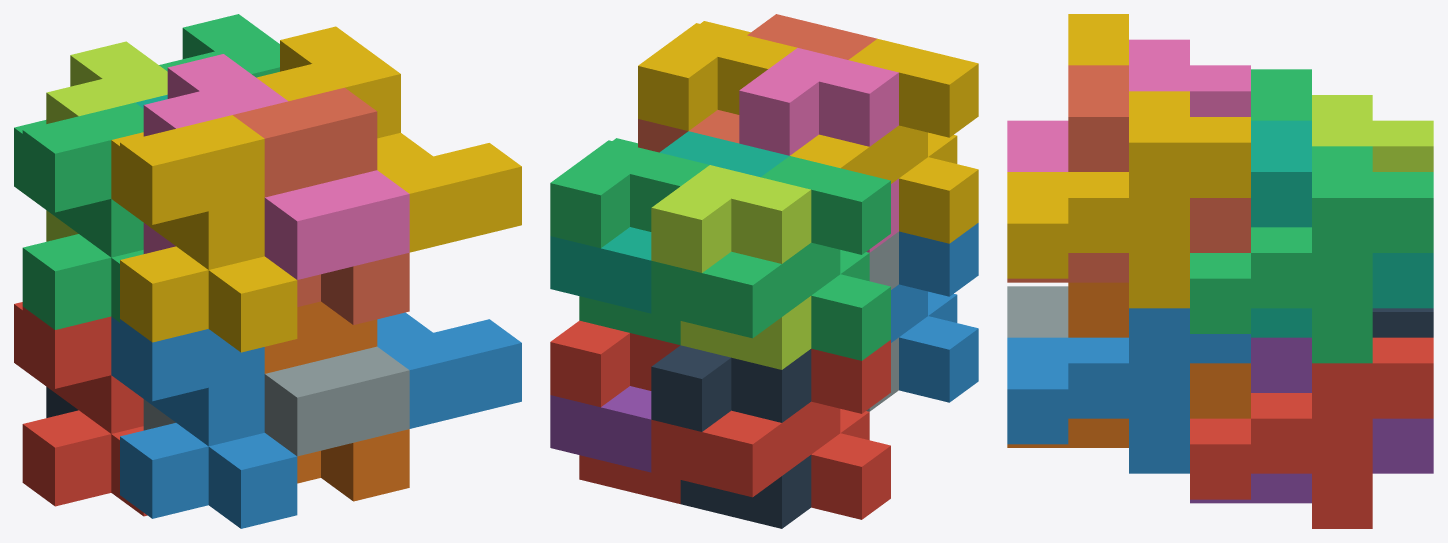
The model's file is tiling.obj.
3 views of the same model, side by side, from view 1: azimuth 30°, elevation 25°; view 2: azimuth 150°, elevation 25°; view 3: azimuth 270°, elevation 25° (orthographic). The views are drawn at different scales.
Visible parts, largest first — view 1: copy_1_domain_4, copy_1_domain_2, copy_1_domain_3, copy_2_domain_8, copy_2_domain_4, copy_1_domain_1, copy_1_domain_8, copy_2_domain_2, copy_2_domain_6, copy_1_domain_6, copy_2_domain_3, copy_2_domain_7; view 2: copy_1_domain_3, copy_1_domain_1, copy_1_domain_4, copy_2_domain_3, copy_2_domain_1, copy_2_domain_4, copy_2_domain_7, copy_1_domain_2, copy_2_domain_8, copy_2_domain_5, copy_1_domain_7, copy_1_domain_5 (+2 smaller); view 3: copy_2_domain_8, copy_2_domain_7, copy_2_domain_5, copy_2_domain_6, copy_1_domain_8, copy_1_domain_7, copy_2_domain_4, copy_1_domain_5, copy_1_domain_6, copy_2_domain_3, copy_2_domain_2, copy_1_domain_3 (+2 smaller).
Part boxes in pixels (bbox=[...]): copy_1_domain_4: bbox=[111, 115, 297, 352]; copy_1_domain_2: bbox=[111, 316, 297, 528]; copy_1_domain_3: bbox=[14, 102, 143, 329]; copy_2_domain_8: bbox=[256, 26, 521, 252]; copy_2_domain_4: bbox=[143, 54, 409, 279]; copy_1_domain_1: bbox=[14, 302, 147, 516]; copy_1_domain_8: bbox=[233, 87, 409, 324]; copy_2_domain_2: bbox=[143, 346, 409, 456]; copy_2_domain_6: bbox=[377, 312, 521, 428]; copy_1_domain_6: bbox=[264, 301, 409, 501]; copy_2_domain_3: bbox=[46, 41, 167, 241]; copy_2_domain_7: bbox=[159, 14, 279, 77]; copy_1_domain_3: bbox=[651, 156, 890, 360]; copy_1_domain_1: bbox=[651, 340, 890, 519]; copy_1_domain_4: bbox=[790, 38, 978, 243]; copy_2_domain_3: bbox=[651, 165, 811, 369]; copy_2_domain_1: bbox=[651, 345, 811, 528]; copy_2_domain_4: bbox=[739, 48, 898, 252]; copy_2_domain_7: bbox=[550, 138, 709, 345]; copy_1_domain_2: bbox=[891, 223, 978, 402]; copy_2_domain_8: bbox=[638, 21, 797, 130]; copy_2_domain_5: bbox=[550, 320, 680, 503]; copy_1_domain_7: bbox=[550, 131, 789, 313]; copy_1_domain_5: bbox=[550, 386, 651, 472]; copy_2_domain_8: bbox=[1007, 91, 1250, 308]; copy_2_domain_7: bbox=[1190, 146, 1433, 363]; copy_2_domain_5: bbox=[1190, 337, 1433, 528]; copy_2_domain_6: bbox=[1007, 308, 1250, 473]; copy_1_domain_8: bbox=[1007, 65, 1250, 282]; copy_1_domain_7: bbox=[1251, 120, 1433, 337]; copy_2_domain_4: bbox=[1007, 39, 1250, 171]; copy_1_domain_5: bbox=[1190, 337, 1433, 503]; copy_1_domain_6: bbox=[1007, 282, 1250, 447]; copy_2_domain_3: bbox=[1312, 95, 1433, 171]; copy_2_domain_2: bbox=[1007, 286, 1068, 337]; copy_1_domain_3: bbox=[1251, 69, 1311, 120].
Bounding box in the file's own units: 6 × 7 × 7.
